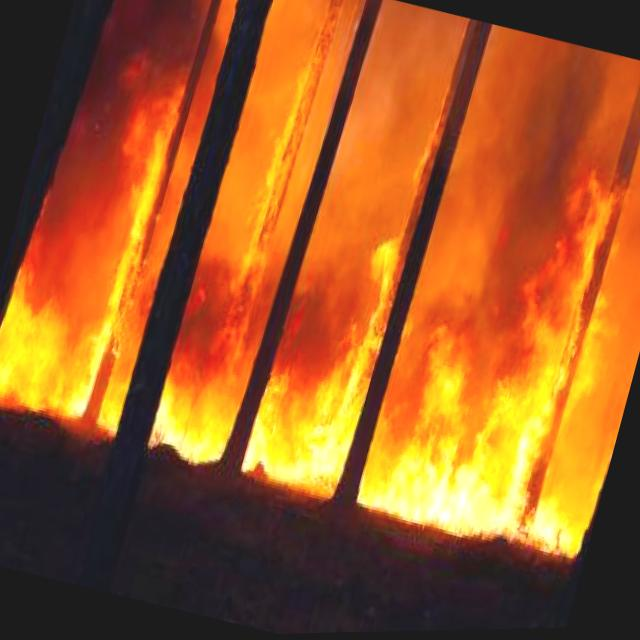fire: (354, 159, 615, 562), (150, 12, 342, 464), (239, 89, 450, 497), (0, 88, 183, 438)
smoke: (171, 0, 640, 539), (22, 0, 232, 325)
